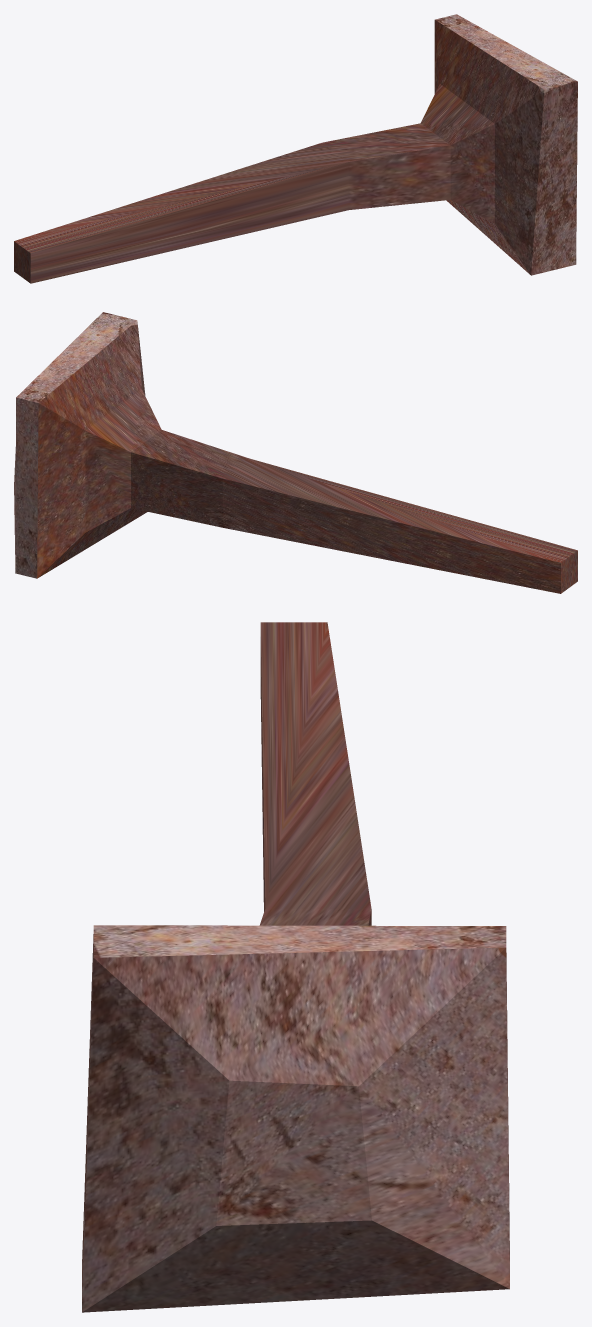
Rendered from Nail_Final.fbx.
3 renders of one model, top to bottom at view 1: azimuth 30°, elevation 25°; view 2: azimuth 150°, elevation 25°; view 3: azimuth 270°, elevation 25°, orthographic. The views are drawn at different scales.
Visible parts, largest first — view 1: pCube1; view 2: pCube1; view 3: pCube1.
Part boxes in pixels (x1,y1,x2,y2): pCube1: [14, 14, 577, 283]; pCube1: [14, 312, 577, 593]; pCube1: [82, 622, 509, 1312].
Size of the model in its own units: 2.65 by 0.8716 by 0.9412.
Materials: 1 (1 with a texture image).
